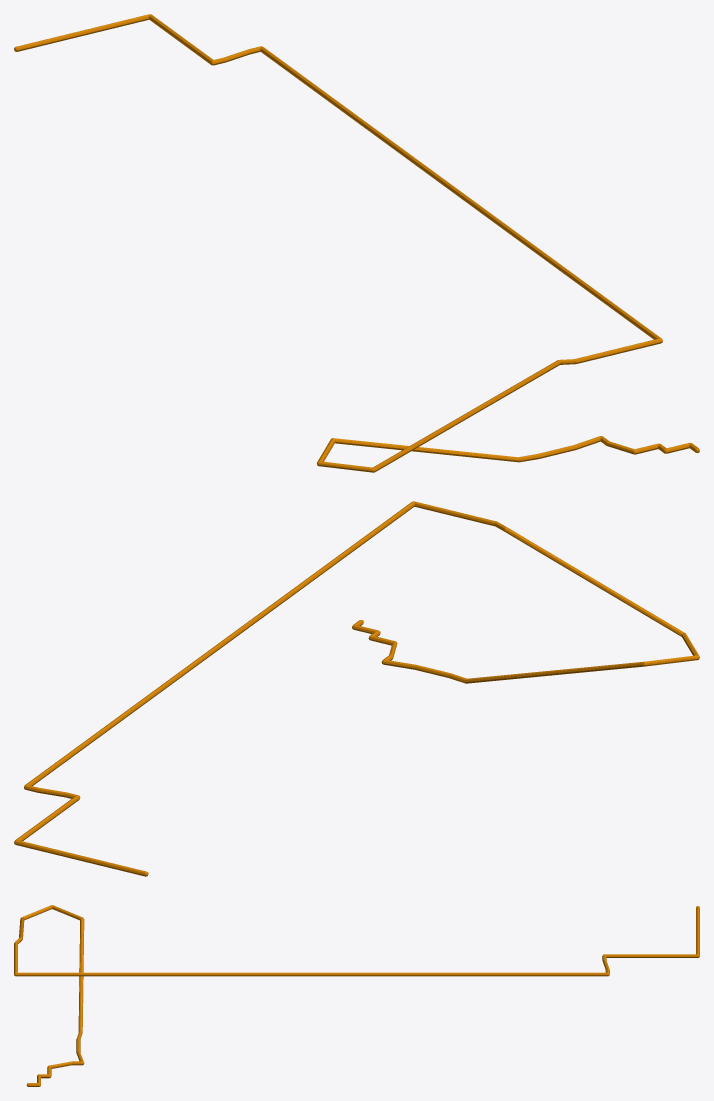
The picture shows the model from 3 angles, top to bottom: view 1: azimuth 30°, elevation 25°; view 2: azimuth 150°, elevation 25°; view 3: azimuth 270°, elevation 25°; orthographic projection. The views are drawn at different scales.
Size of the model in its own units: 1513 by 520 by 3304.
